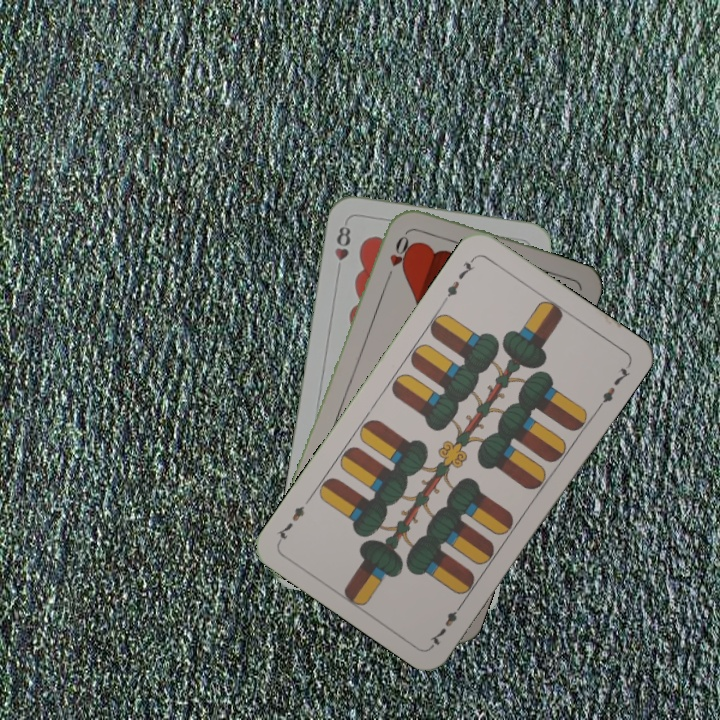E7: (425, 597, 467, 649), (439, 253, 478, 304)
H8: (331, 222, 353, 263)
HO: (382, 227, 412, 283)
